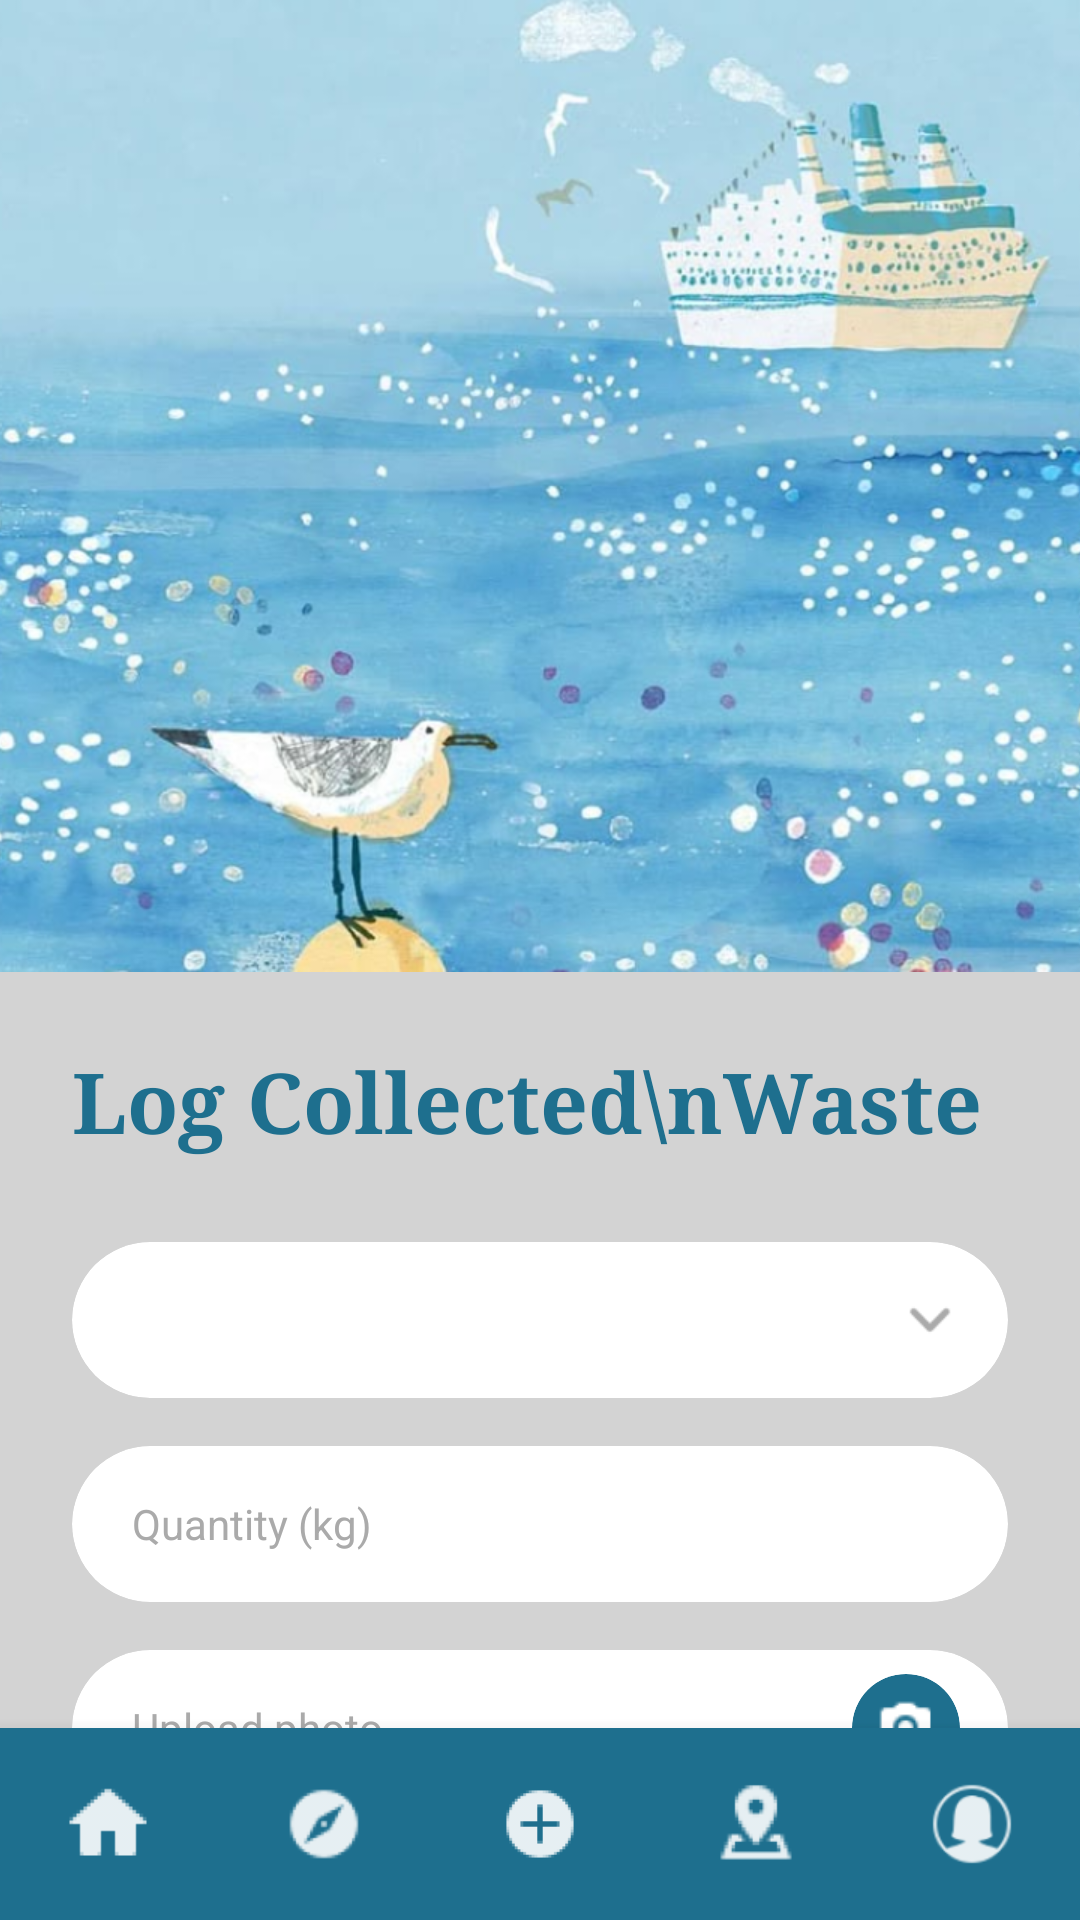

Where to tap for icons on this 1080x1920 app screen, as (x,y):
add: (540,1824)
area: (756,1822)
compass: (324,1824)
home: (108,1822)
profile: (971,1824)
